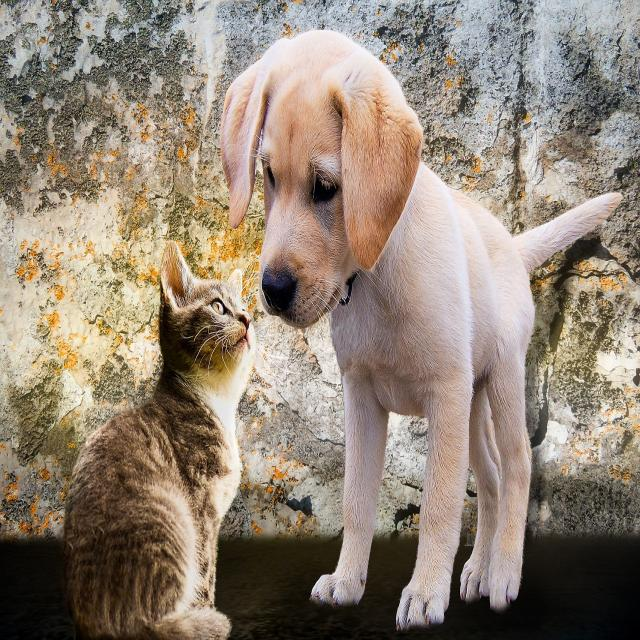cat: (62, 241, 252, 636)
dog: (216, 36, 622, 628)
